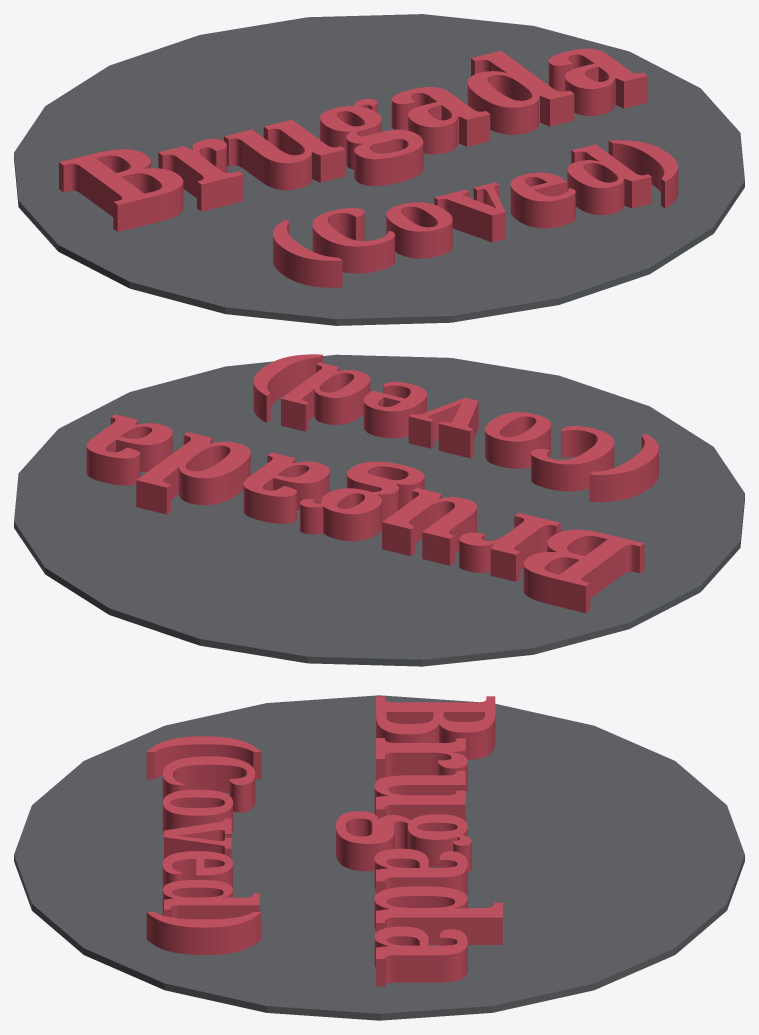
3 renders of one model, top to bottom at view 1: azimuth 30°, elevation 25°; view 2: azimuth 150°, elevation 25°; view 3: azimuth 270°, elevation 25°, orthographic.
Parts seen in each view (by area): view 1: Mesh_Mesh_head_geo001_lambert2SG001; view 2: Mesh_Mesh_head_geo001_lambert2SG001; view 3: Mesh_Mesh_head_geo001_lambert2SG001.
Part boxes in pixels (x1,y1,x2,y2): Mesh_Mesh_head_geo001_lambert2SG001: (14,14,744,325); Mesh_Mesh_head_geo001_lambert2SG001: (14,354,744,666); Mesh_Mesh_head_geo001_lambert2SG001: (14,695,744,1020).
Size of the model in its own units: 199 by 10 by 193.
